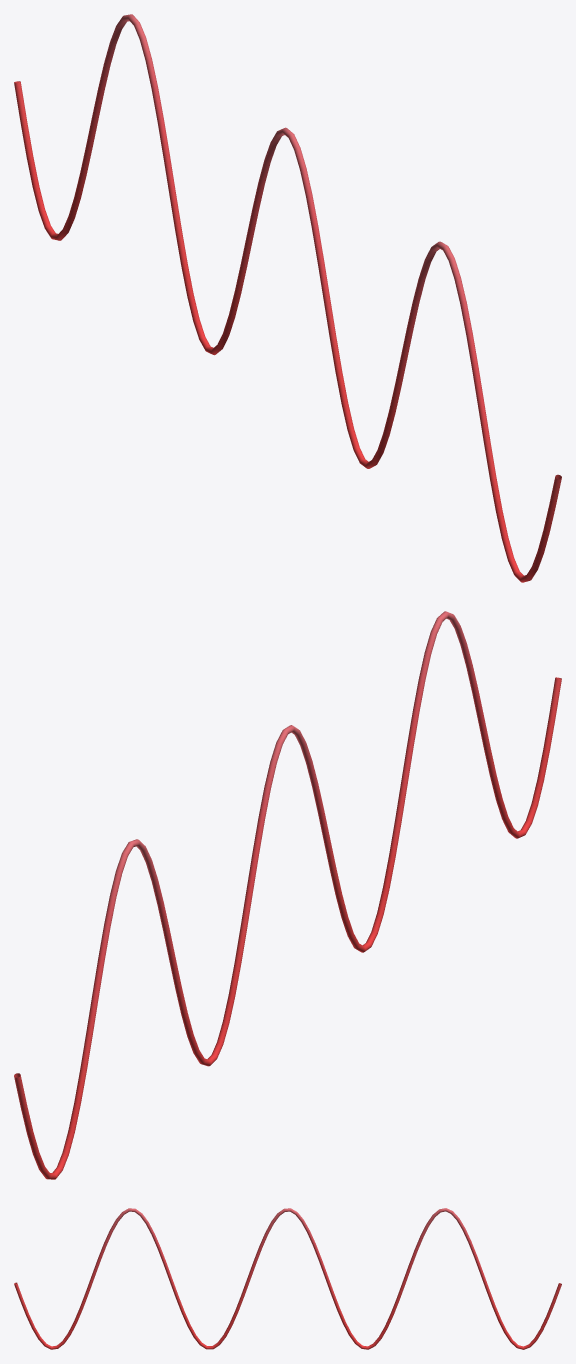
Rendered from Visible-final.glb.
3 views of the same model, one above another, from view 1: azimuth 30°, elevation 25°; view 2: azimuth 150°, elevation 25°; view 3: azimuth 270°, elevation 25° (orthographic). The views are drawn at different scales.
Parts seen in each view (by area): view 1: Visible.001; view 2: Visible.001; view 3: Visible.001.
Part boxes in pixels (<box>): Visible.001: <box>14,14,561,582</box>; Visible.001: <box>14,611,561,1179</box>; Visible.001: <box>14,1208,561,1349</box>.
Size of the model in its own units: 0.0292 by 1.33 by 4.66.
1 material, 1 textured.
